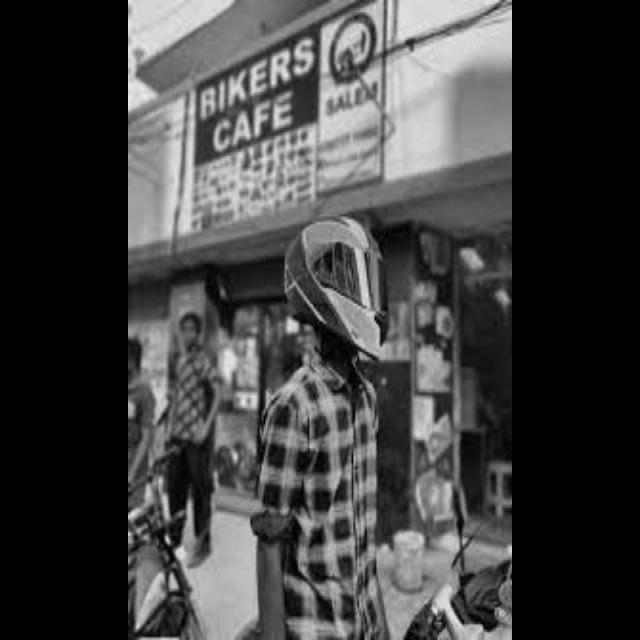5_casco: (290, 211, 392, 365)
